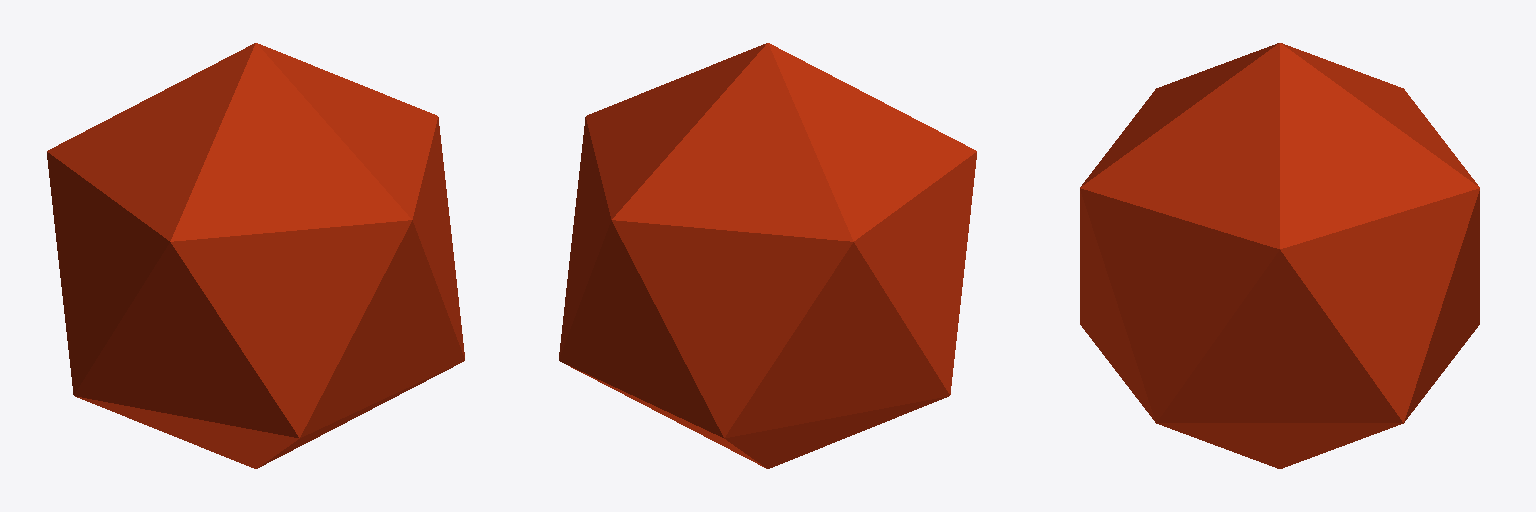
The model's file is dec-ball-speed-bonus.obj.
The picture shows the model from 3 angles: view 1: azimuth 30°, elevation 25°; view 2: azimuth 150°, elevation 25°; view 3: azimuth 270°, elevation 25°; orthographic projection.
Bounding box in the file's own units: 0.4423 × 0.4946 × 0.4207.